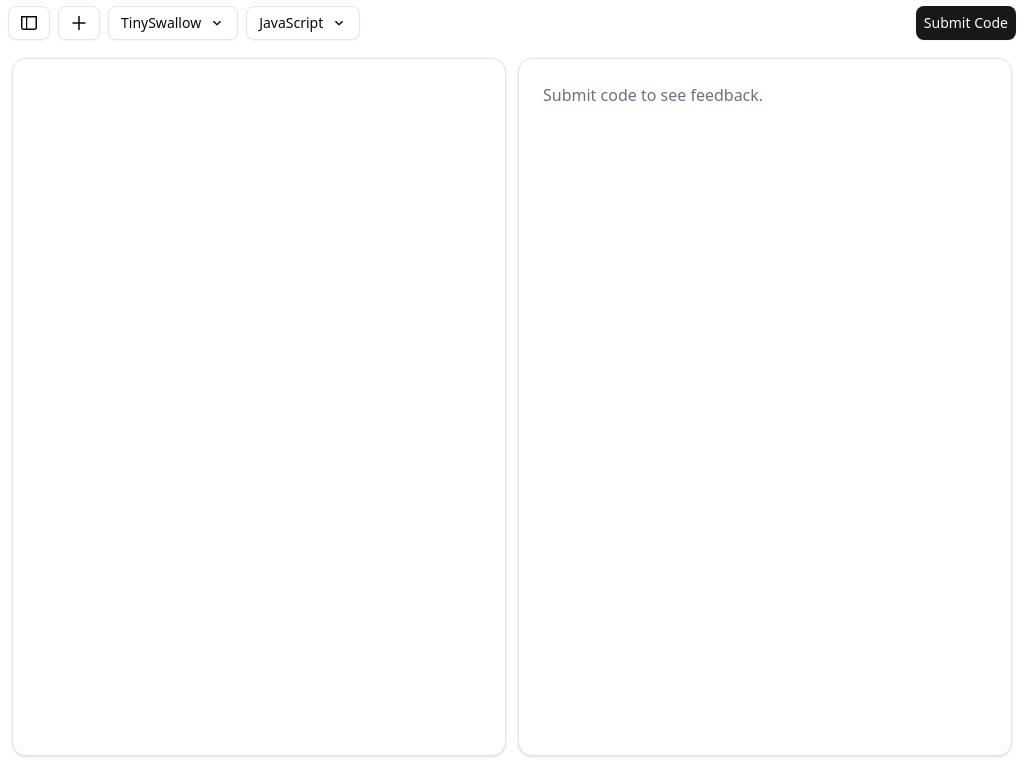
Review Component › sends code using WebLLMApi when offline model
Click the button "Submit Code": click(966, 23) [916,6,1016,40]
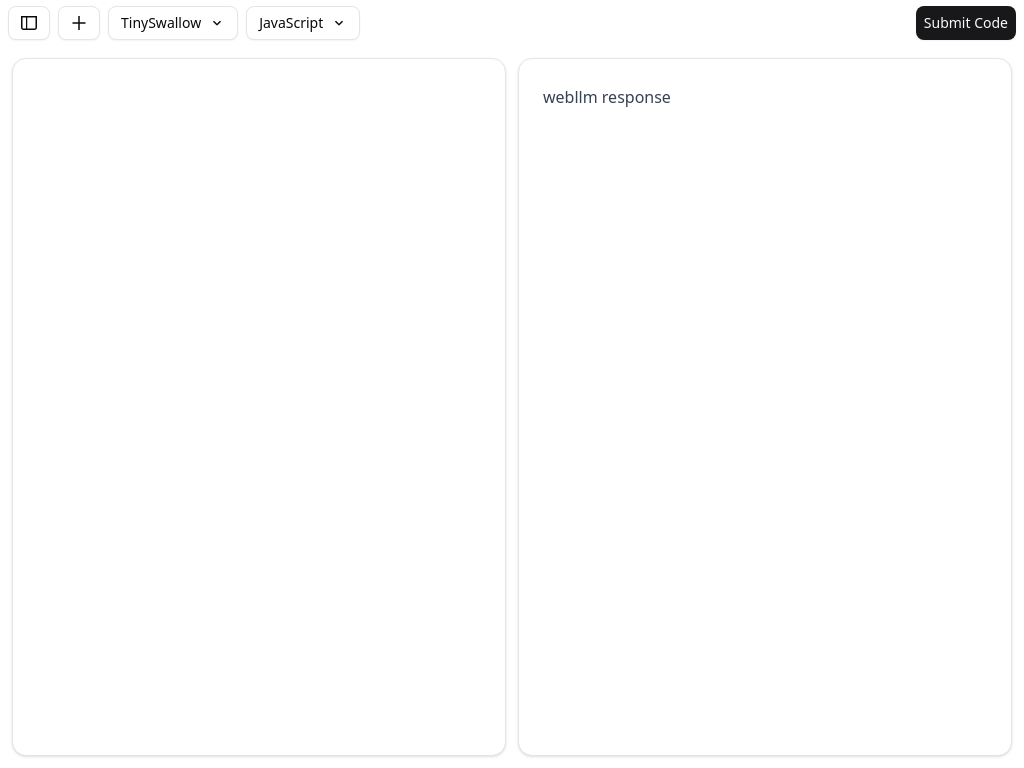
Result: the text "webllm response" is shown at [543,86,671,108]
